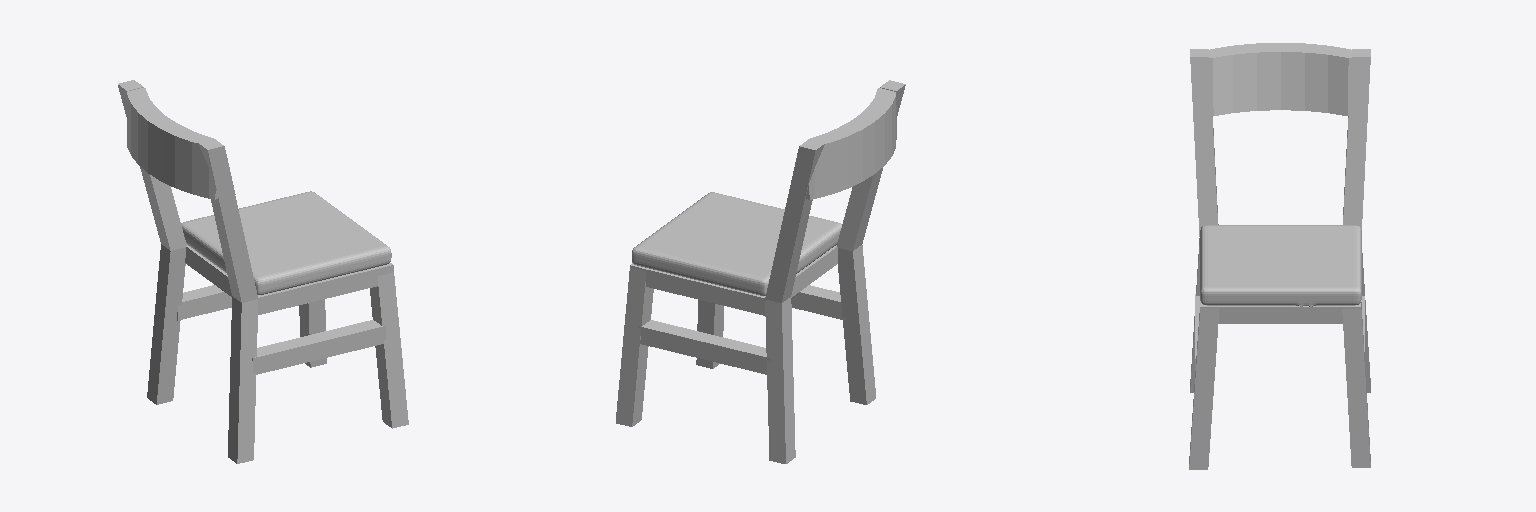
The model's file is silllatex.obj.
3 renders of one model, left to right at view 1: azimuth 30°, elevation 25°; view 2: azimuth 150°, elevation 25°; view 3: azimuth 270°, elevation 25°, orthographic.
Parts seen in each view (by area): view 1: Cube.001_Cube, Cube.000_Cube.002; view 2: Cube.001_Cube, Cube.000_Cube.002; view 3: Cube.001_Cube, Cube.000_Cube.002.
Boxes of the visible parts, box(x1,y1,x2,y2) form: Cube.001_Cube: box(118, 80, 408, 463); Cube.000_Cube.002: box(181, 191, 391, 294); Cube.001_Cube: box(616, 80, 905, 463); Cube.000_Cube.002: box(632, 192, 841, 295); Cube.001_Cube: box(1189, 43, 1370, 469); Cube.000_Cube.002: box(1200, 225, 1361, 306).
Size of the model in its own units: 64.53 by 92.72 by 47.28.